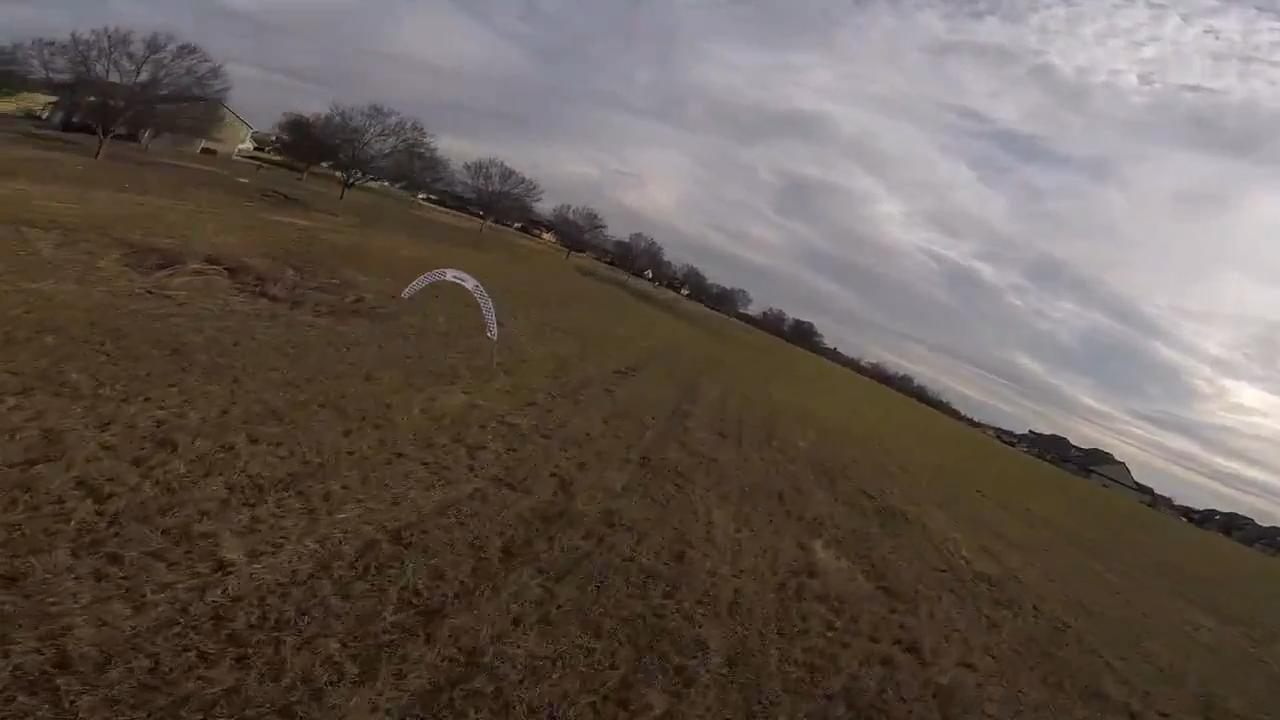gate: (398, 265, 500, 342)
